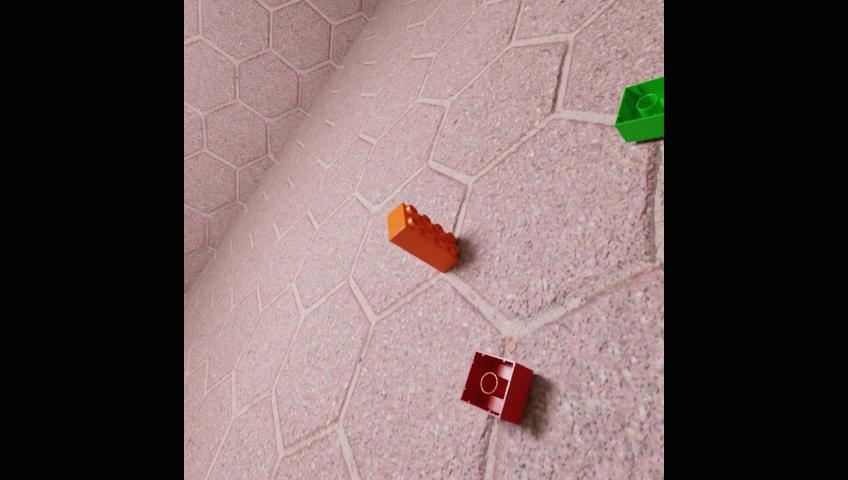2x2_green: (613, 75, 664, 142)
2x2_red: (459, 350, 533, 425)
4x2_orange: (386, 202, 458, 272)
